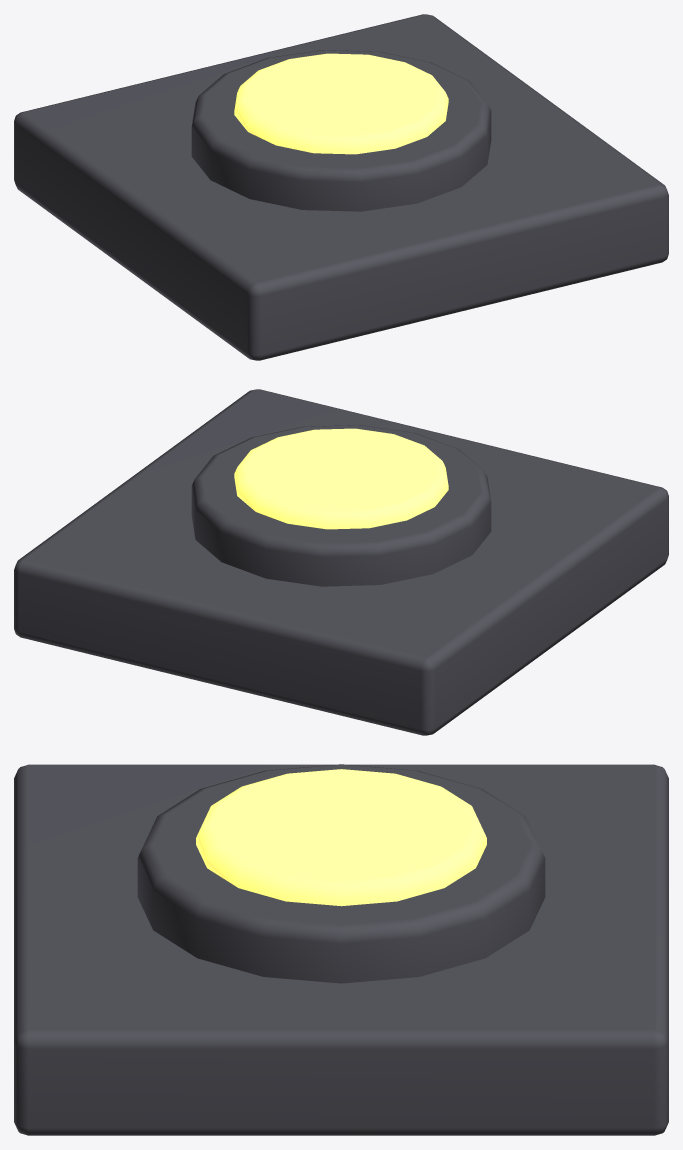
File: mech_kit_sensor_eye.glb
3 renders of one model, top to bottom at view 1: azimuth 30°, elevation 25°; view 2: azimuth 150°, elevation 25°; view 3: azimuth 270°, elevation 25°, orthographic. The views are drawn at different scales.
Visible parts, largest first — view 1: mech_kit_sensor_eye; view 2: mech_kit_sensor_eye; view 3: mech_kit_sensor_eye.
Part boxes in pixels (<box>): mech_kit_sensor_eye: <box>14,14,668,360</box>; mech_kit_sensor_eye: <box>14,389,668,735</box>; mech_kit_sensor_eye: <box>14,764,668,1135</box>.
Size of the model in its own units: 0.09 by 0.027 by 0.09.
